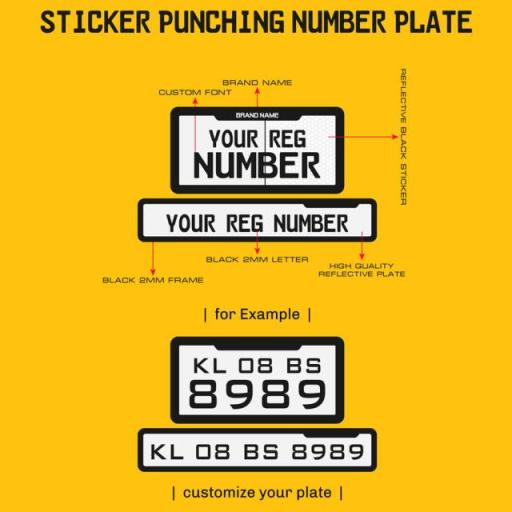number plate: (174, 342, 341, 420), (138, 430, 376, 470)
